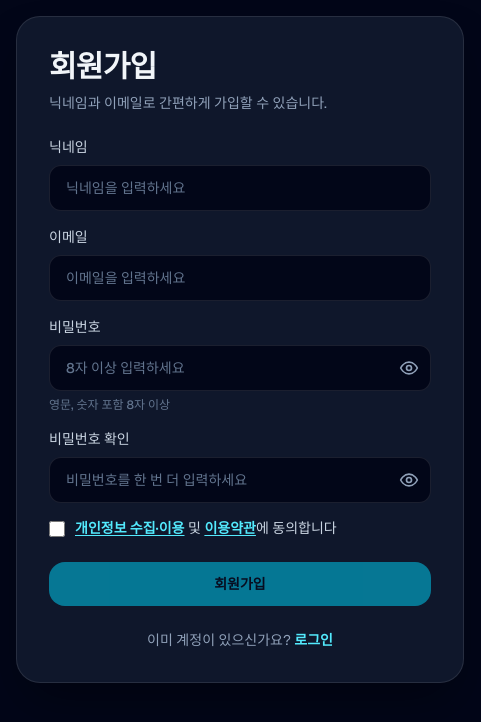
Test case: 회원가입 폼 UX › (3) 확인 칸에 불일치 값을 입력하면 '비밀번호가 일치하지 않아요'가 뜨고 제출이 비활성화된다
Step 1. Type "abcd1234" into the password field with placeholder "8자 이상 입력하세요" → (240, 368), box [49,345,431,391]
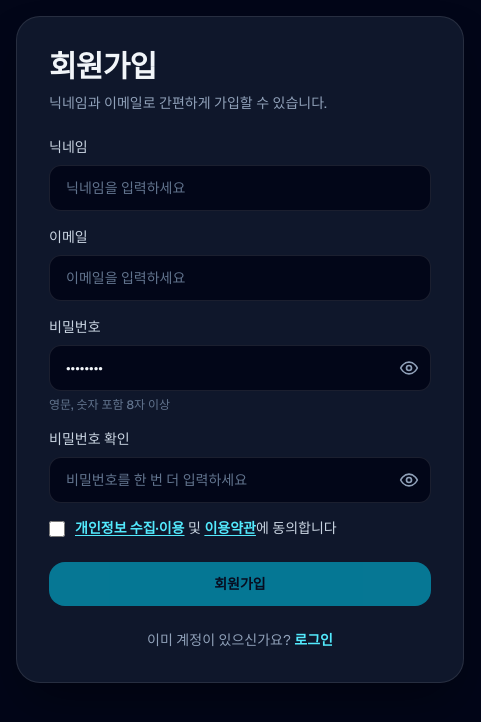
Step 2. Type "different1" into the password field with placeholder "비밀번호를 한 번 더 입력하세요" → (240, 480), box [49,457,431,503]
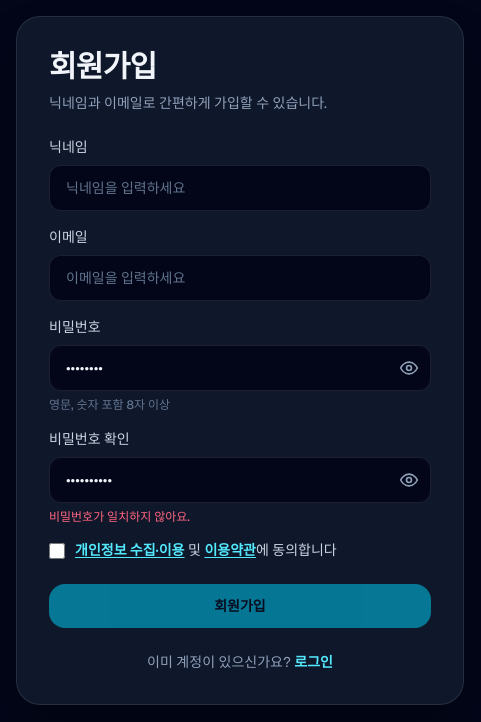
Expected: the button "회원가입" is disabled, [49,584,431,628]
Expected: the text "비밀번호가 일치하지 않아요." is shown, [49,509,190,525]
